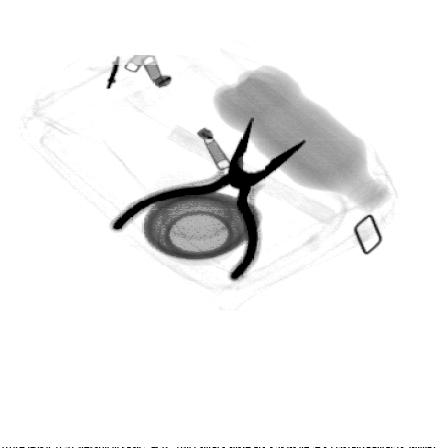Pliers: (108, 115, 307, 281)
